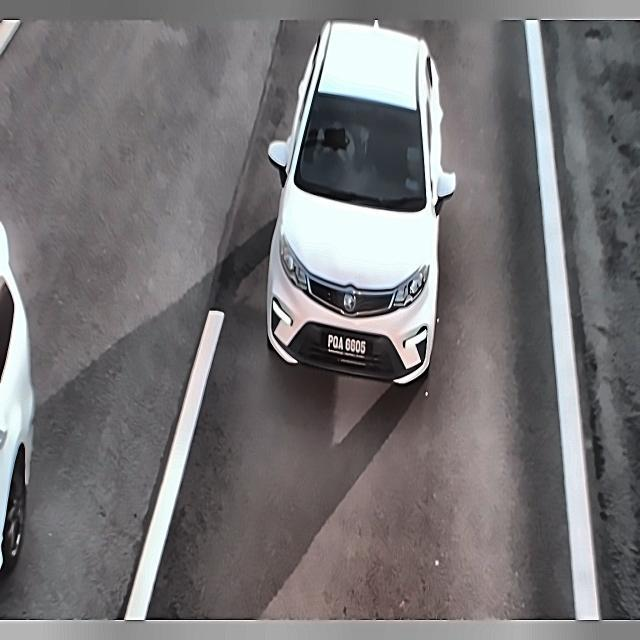car: (319, 319, 378, 369)
